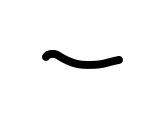minus: (38, 46, 123, 70)
